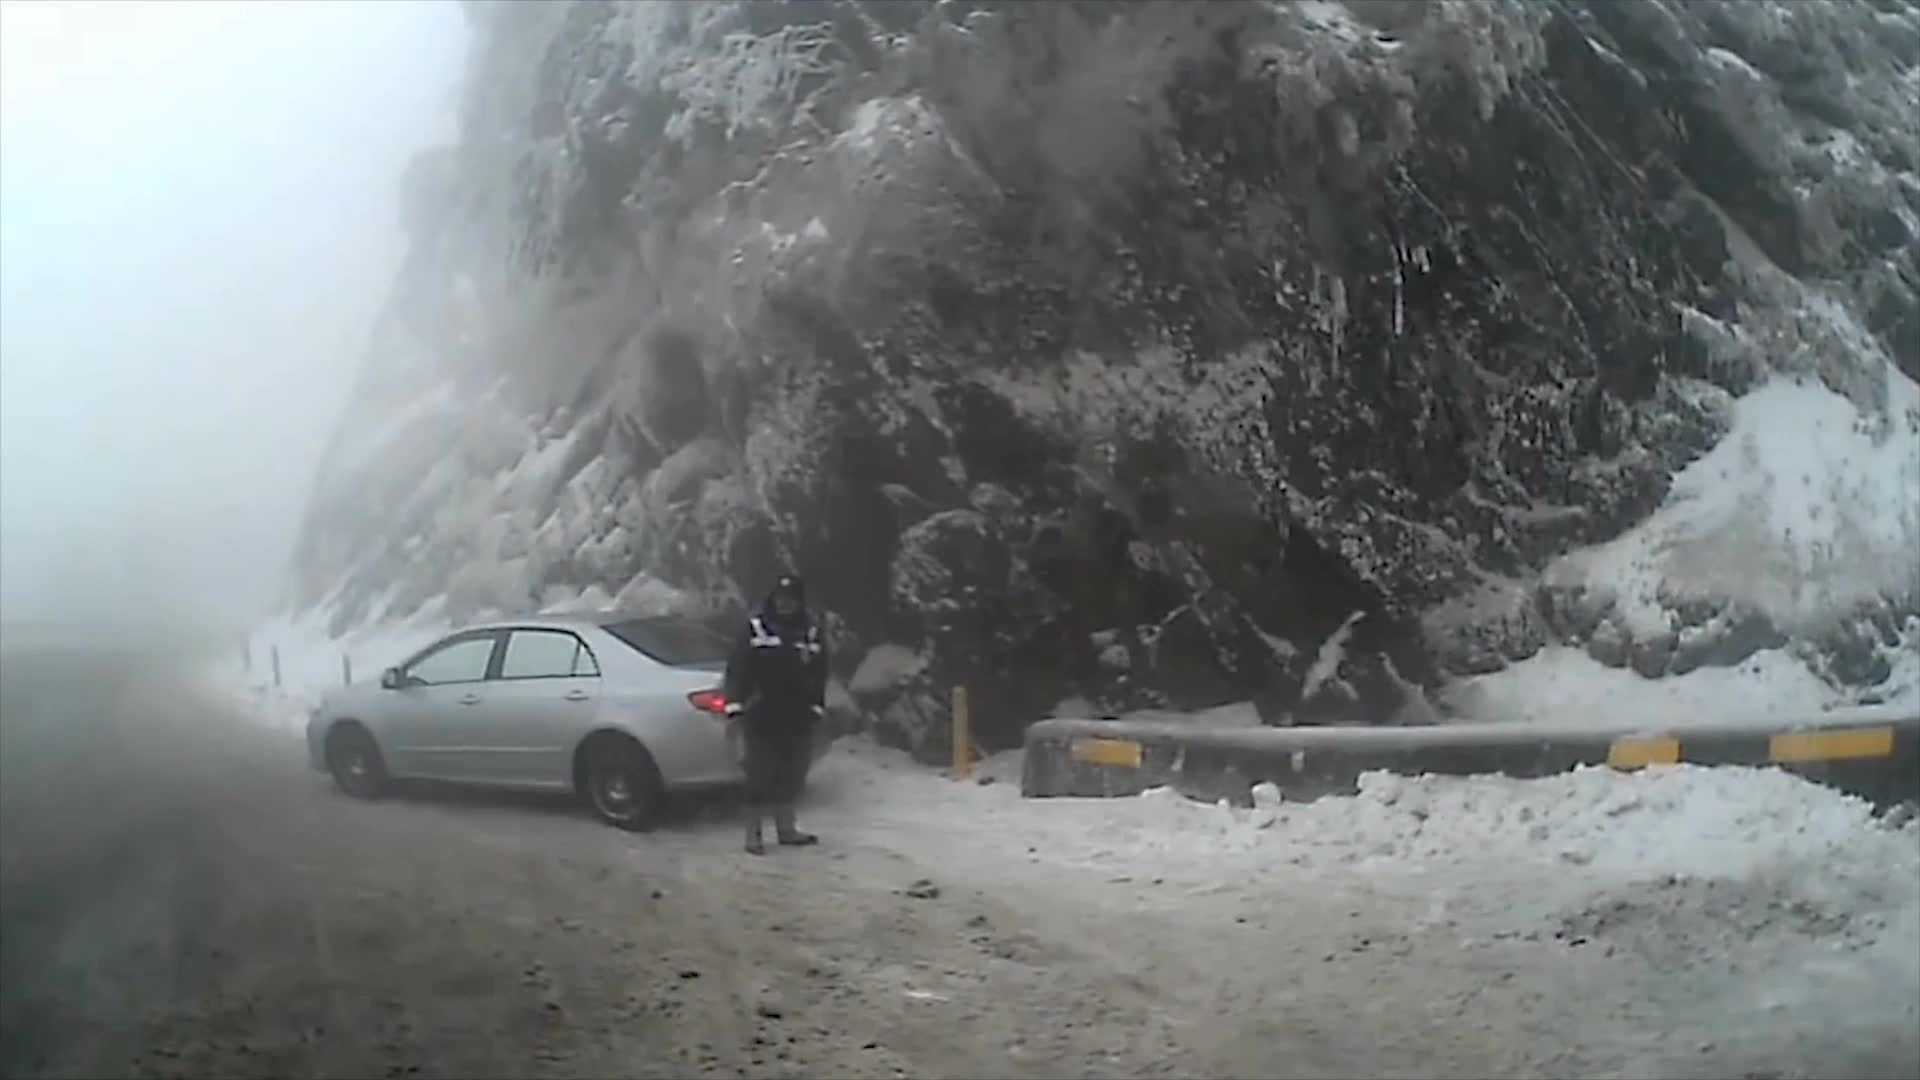pedestrian: (720, 575, 828, 858)
vehicle: (304, 605, 825, 832)
